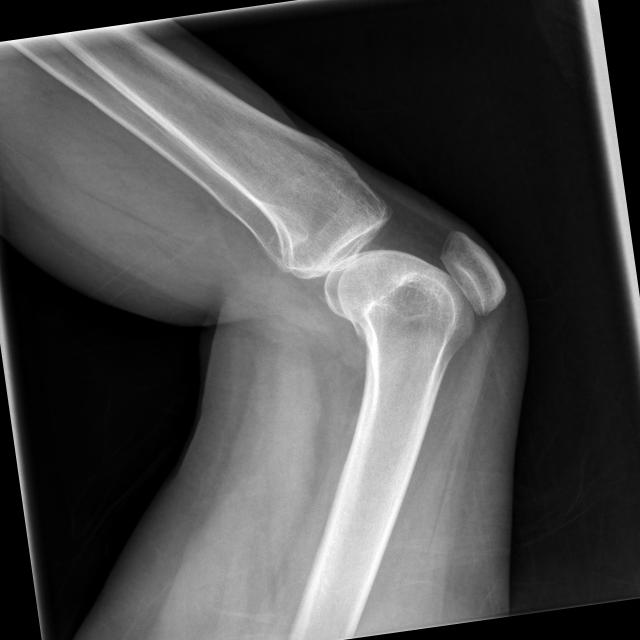Knee: (269, 178, 511, 350)
